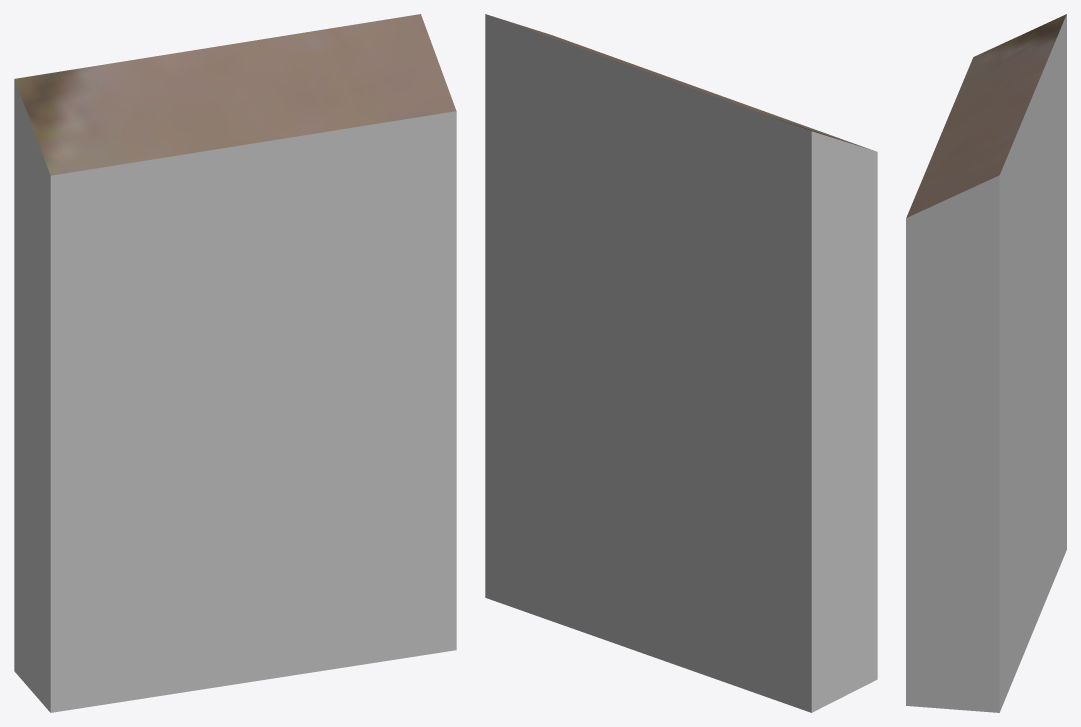
Rendered from DEBW_0010007THZP.gltf.
3 renders of one model, left to right at view 1: azimuth 30°, elevation 25°; view 2: azimuth 150°, elevation 25°; view 3: azimuth 270°, elevation 25°, orthographic. The views are drawn at different scales.
Visible parts, largest first — view 1: Z_UP; view 2: Z_UP; view 3: Z_UP.
Boxes of the visible parts, x1,y1,x2,y2 form: Z_UP: (14, 14, 456, 712); Z_UP: (485, 14, 877, 712); Z_UP: (906, 14, 1066, 712).
Bounding box in the file's own units: 7.18 × 10.6 × 2.87.
2 materials, 1 textured.
